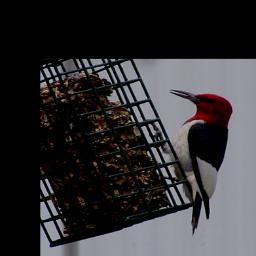Woodpecker: (151, 89, 234, 235)
